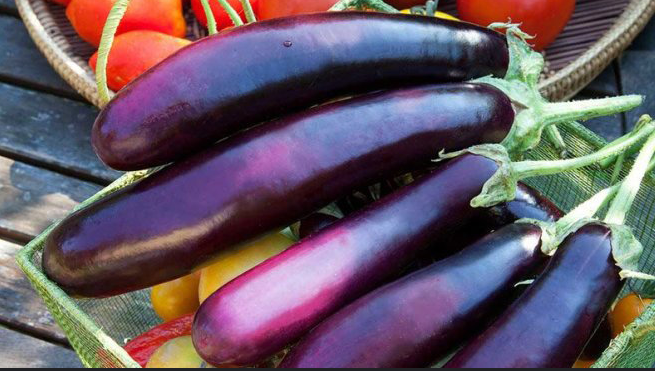catim: (44, 86, 548, 292), (175, 145, 519, 355), (40, 88, 518, 168), (85, 2, 527, 81), (313, 225, 532, 367), (547, 211, 619, 364)
